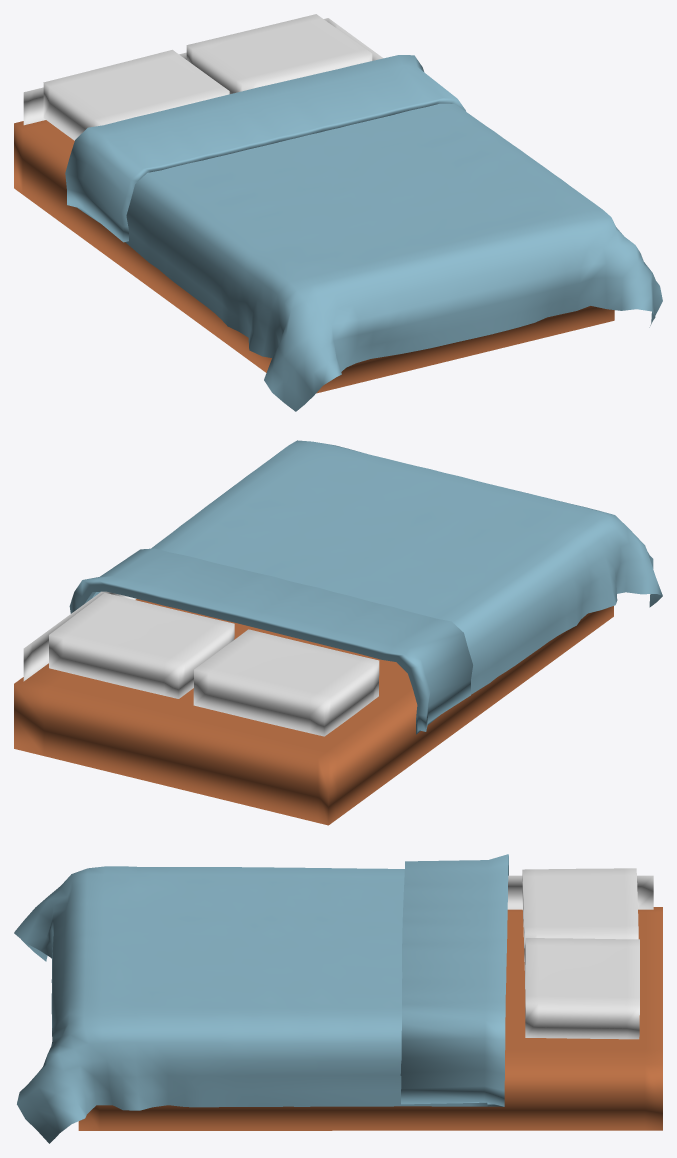
File: bed.glb
3 views of the same model, one above another, from view 1: azimuth 30°, elevation 25°; view 2: azimuth 150°, elevation 25°; view 3: azimuth 270°, elevation 25° (orthographic). The views are drawn at different scales.
Visible parts, largest first — view 1: Blanket.001, Bedframe, Left Pillow, Right Pillow, Mattress.001; view 2: Blanket.001, Bedframe, Left Pillow, Right Pillow, Mattress.001; view 3: Blanket.001, Bedframe, Right Pillow, Left Pillow, Mattress.001.
Part boxes in pixels (x1=…): Blanket.001: x1=65, y1=55, x2=662, y2=411; Bedframe: x1=14, y1=120, x2=614, y2=393; Left Pillow: x1=43, y1=49, x2=229, y2=140; Right Pillow: x1=186, y1=14, x2=372, y2=93; Mattress.001: x1=23, y1=18, x2=382, y2=125; Blanket.001: x1=69, y1=440, x2=662, y2=734; Bedframe: x1=14, y1=599, x2=613, y2=825; Left Pillow: x1=193, y1=629, x2=379, y2=736; Right Pillow: x1=49, y1=593, x2=234, y2=698; Mattress.001: x1=23, y1=591, x2=136, y2=681; Blanket.001: x1=14, y1=854, x2=508, y2=1143; Bedframe: x1=78, y1=907, x2=662, y2=1130; Right Pillow: x1=525, y1=938, x2=639, y2=1039; Left Pillow: x1=522, y1=868, x2=638, y2=970; Mattress.001: x1=507, y1=875, x2=653, y2=909.
Size of the model in its own units: 0.3516 by 0.1012 by 0.4875.
